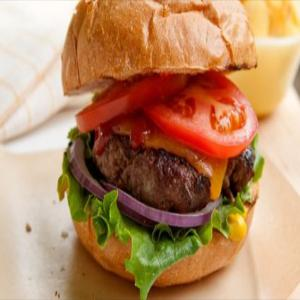cheeseburger_475cal: (51, 2, 269, 282)
